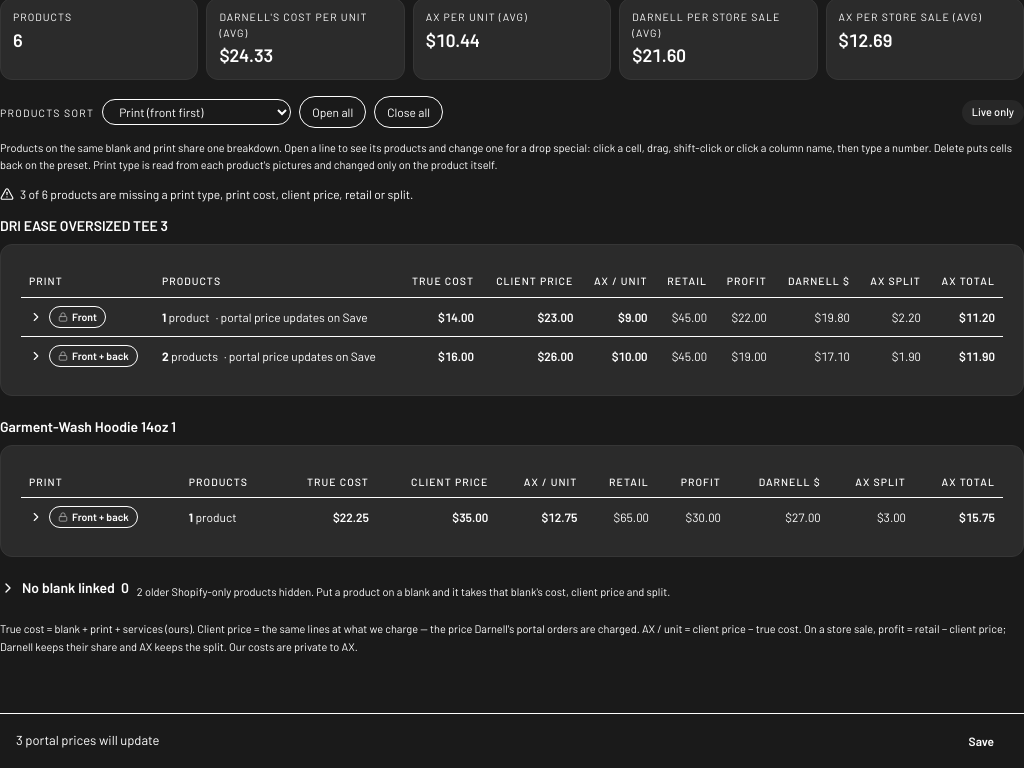
pricing sheet › ticks products with no blank and assigns them to one
This screenshot has width=1024, height=768.
Later steps or results of the test are not shown.
(page scrolled)
Click the button that starts with "No blank linked": (512, 589) [0, 577, 1023, 600]
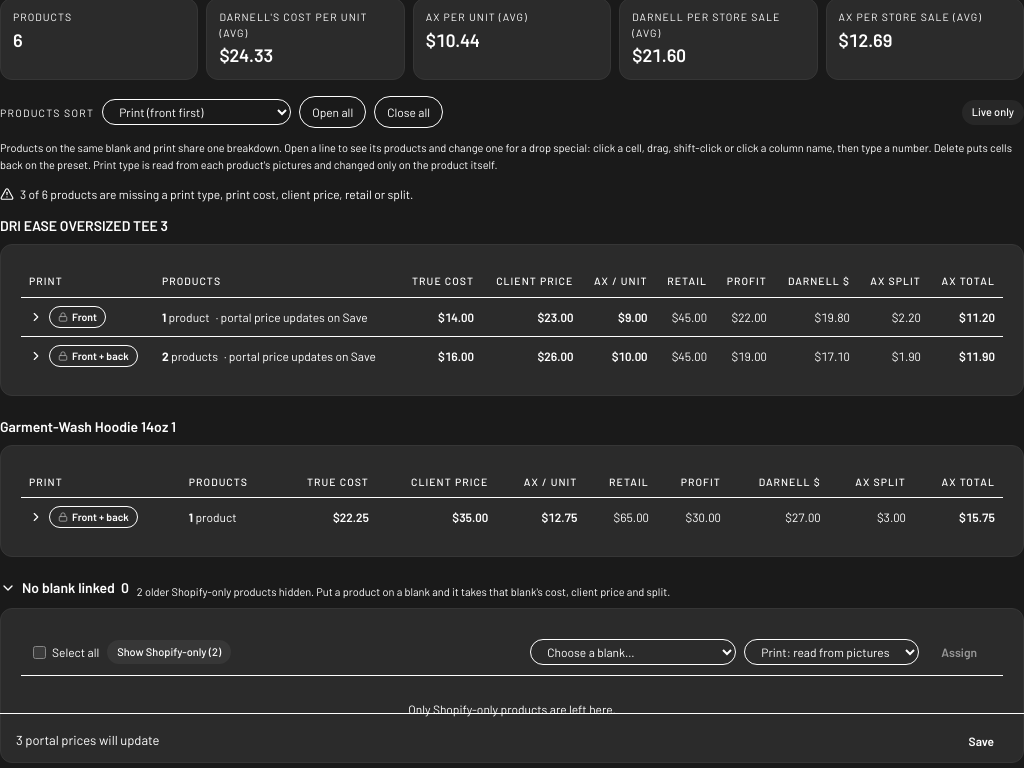
Click the button "Show Shopify-only (2)": (169, 652) [107, 640, 231, 664]
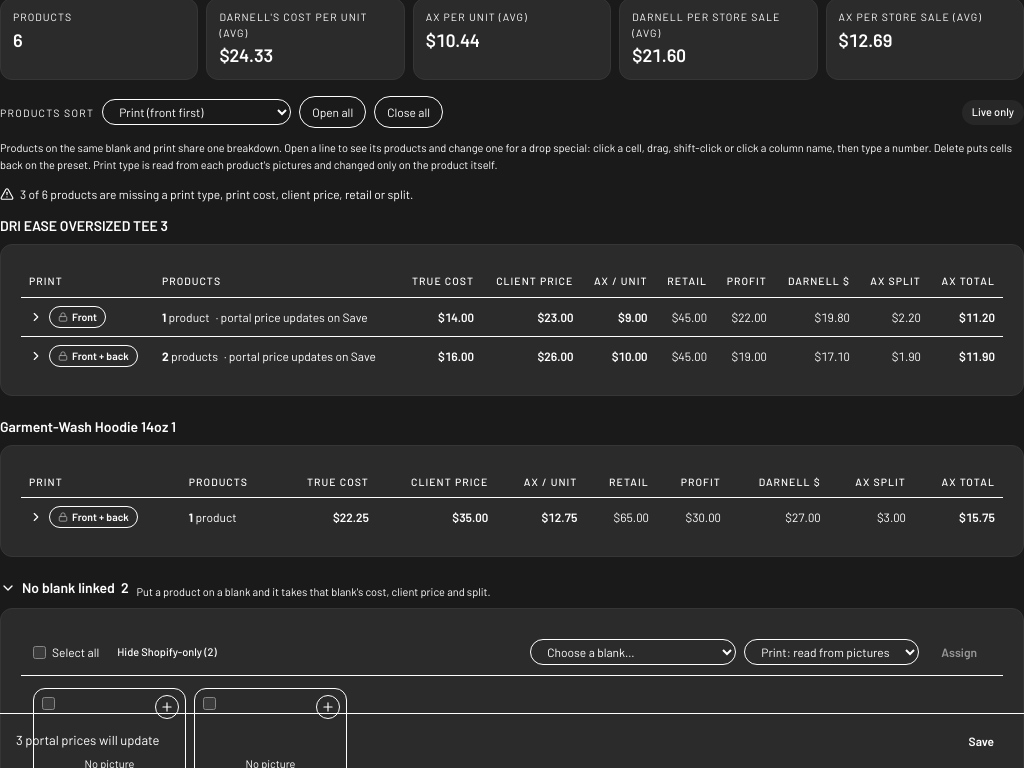
Click the checkbox labelled "Select all": (40, 652) [33, 646, 46, 659]
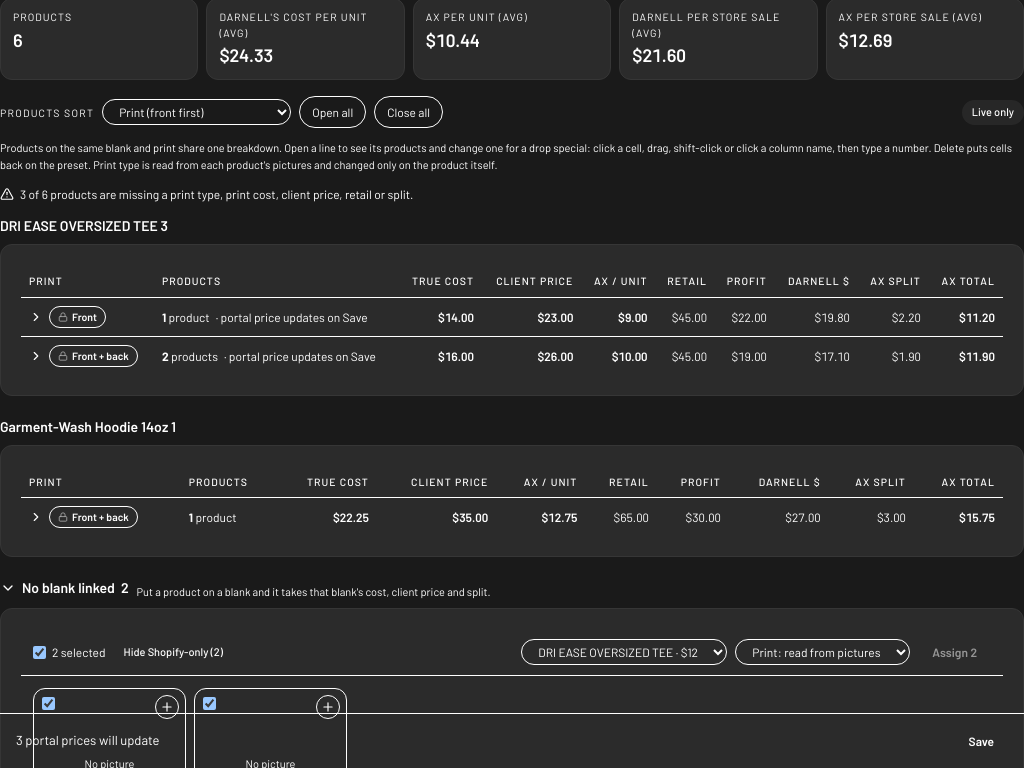
Check: the text "2 selected" is shown, box [33, 643, 106, 661]
